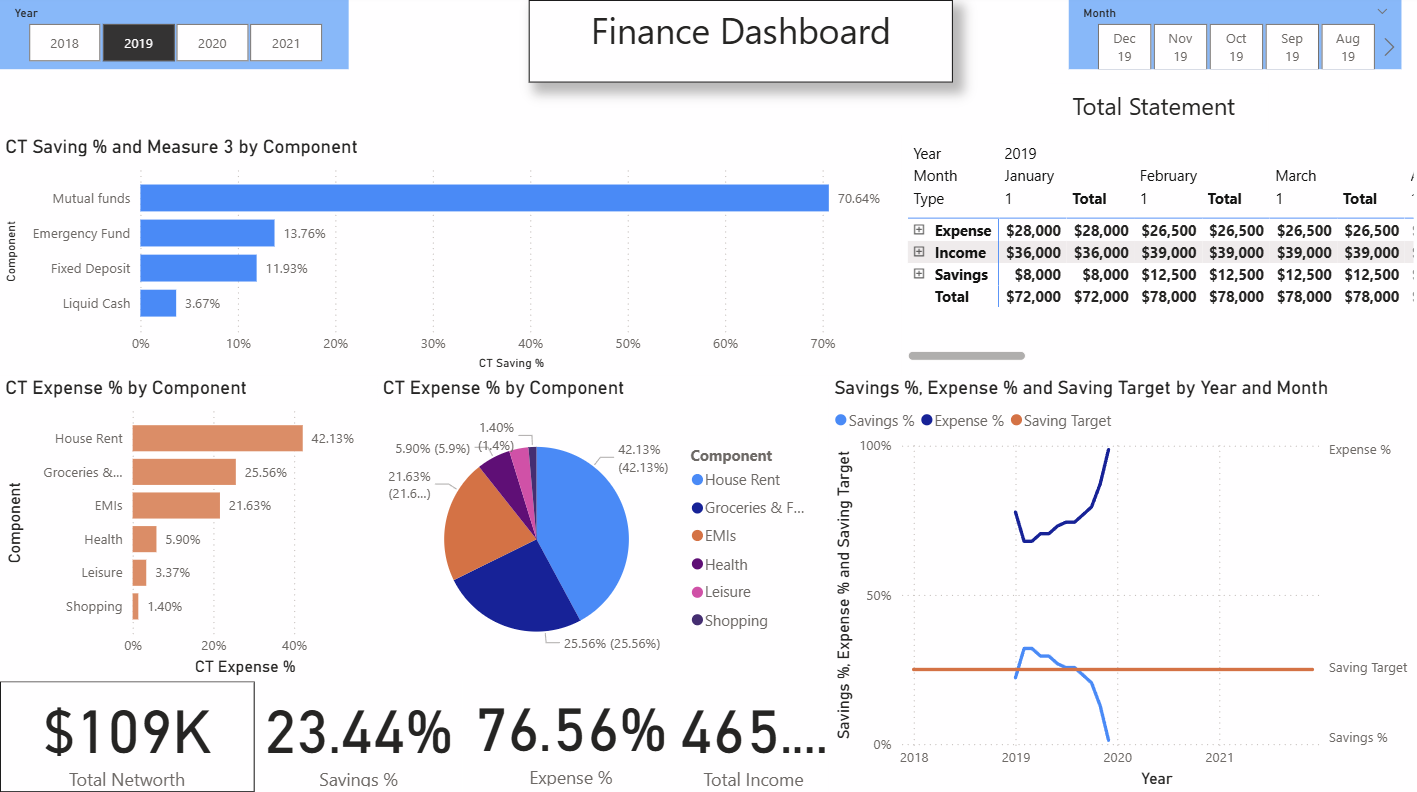

The page's visual inventory and layout, read from the dashboard file:
{"tool":"powerbi","page":{"name":"Page 1","canvas":[1280,720],"ordinal":0},"visuals":[{"type":"slicer","fields":{"Values":["FinData.Year"]},"box":[0,0,314.5,62],"z":0},{"type":"slicer","fields":{"Values":["FinData.Date"]},"box":[963.8,0,300.1,62],"z":1000},{"type":"card","fields":{"Values":["Key Measure.Expense %"]},"box":[417,611.4,195.7,102.7],"z":2000},{"type":"card","fields":{"Values":["Key Measure.Savings %"]},"box":[229.9,613.9,187.1,100.3],"z":3000},{"type":"card","fields":{"Values":["Key Measure.Total Income"]},"box":[600.4,613.9,157.7,100.3],"z":4000},{"type":"card","fields":{"Values":["Key Measure.Total Savings"]},"box":[0,613.9,229.9,100.3],"z":5000},{"type":"clusteredBarChart","fields":{"Category":["FinData.Component"],"Y":["Key Measure.CT Expense %"]},"box":[0,338.7,339.9,275.1],"z":6000},{"type":"pieChart","fields":{"Category":["FinData.Component"],"Y":["Key Measure.CT Expense %"]},"box":[339.9,338.7,407.2,275.1],"z":7000},{"type":"clusteredBarChart","fields":{"Category":["FinData.Component"],"Y":["Key Measure.CT Saving %"]},"box":[0,122.3,813.2,216.4],"z":8000},{"type":"lineChart","fields":{"Y":["Key Measure.Savings %","Key Measure.Expense %","Key Measure.Saving Target"],"Category":["FinData.Date.Variation.Date Hierarchy.Year","FinData.Date.Variation.Date Hierarchy.Month"]},"box":[747.2,338.7,533.2,375.4],"z":9000},{"type":"pivotTable","title":"Complete Statement","fields":{"Values":["Sum(FinData.Value)"],"Rows":["FinData.Type","FinData.Component"],"Columns":["FinData.Date.Variation.Date Hierarchy.Year","FinData.Date.Variation.Date Hierarchy.Month","FinData.Date.Variation.Date Hierarchy.Day"]},"box":[813.7,122.6,466,207.8],"z":10000},{"type":"textbox","box":[476.9,0,382.7,74.6],"z":11000},{"type":"textbox","box":[945,75,199.1,47.6],"z":12000}]}

Visuals, with their boxes in screenshot pixels (x1, y1, x2, y2), scaled from the page's 1280x720 canvas onto the 1417x792 screenshot:
slicer - FinData.Year: box=[0, 0, 348, 68]
slicer - FinData.Date: box=[1067, 0, 1399, 68]
card - Key Measure.Expense %: box=[462, 673, 678, 786]
card - Key Measure.Savings %: box=[255, 675, 462, 786]
card - Key Measure.Total Income: box=[665, 675, 839, 786]
card - Key Measure.Total Savings: box=[0, 675, 255, 786]
clusteredBarChart - FinData.Component x Key Measure.CT Expense %: box=[0, 373, 376, 675]
pieChart - FinData.Component x Key Measure.CT Expense %: box=[376, 373, 827, 675]
clusteredBarChart - FinData.Component x Key Measure.CT Saving %: box=[0, 135, 900, 373]
lineChart - Key Measure.Savings % x Key Measure.Expense %: box=[827, 373, 1416, 786]
"Complete Statement" pivotTable: box=[901, 135, 1416, 363]
textbox: box=[528, 0, 952, 82]
textbox: box=[1046, 82, 1267, 135]
